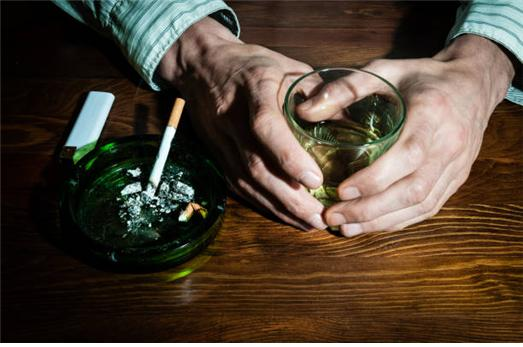alcohol: (283, 64, 407, 203)
cigarette: (136, 97, 190, 199), (176, 202, 208, 222)
